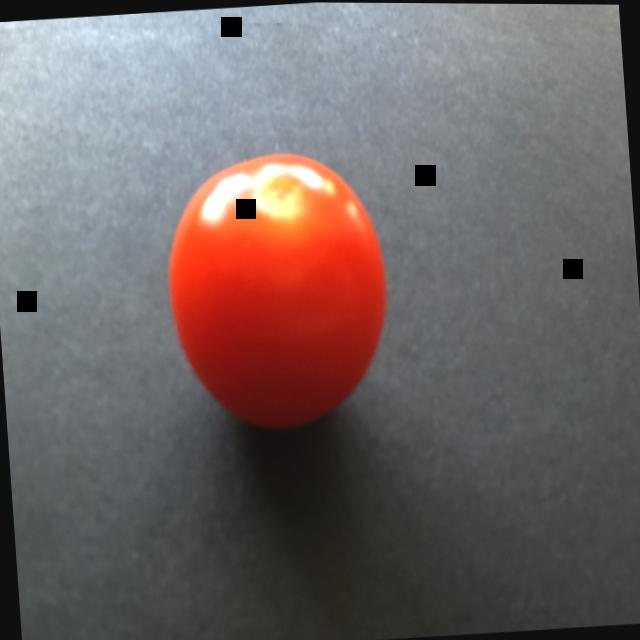Tomato: (54, 69, 480, 538)
